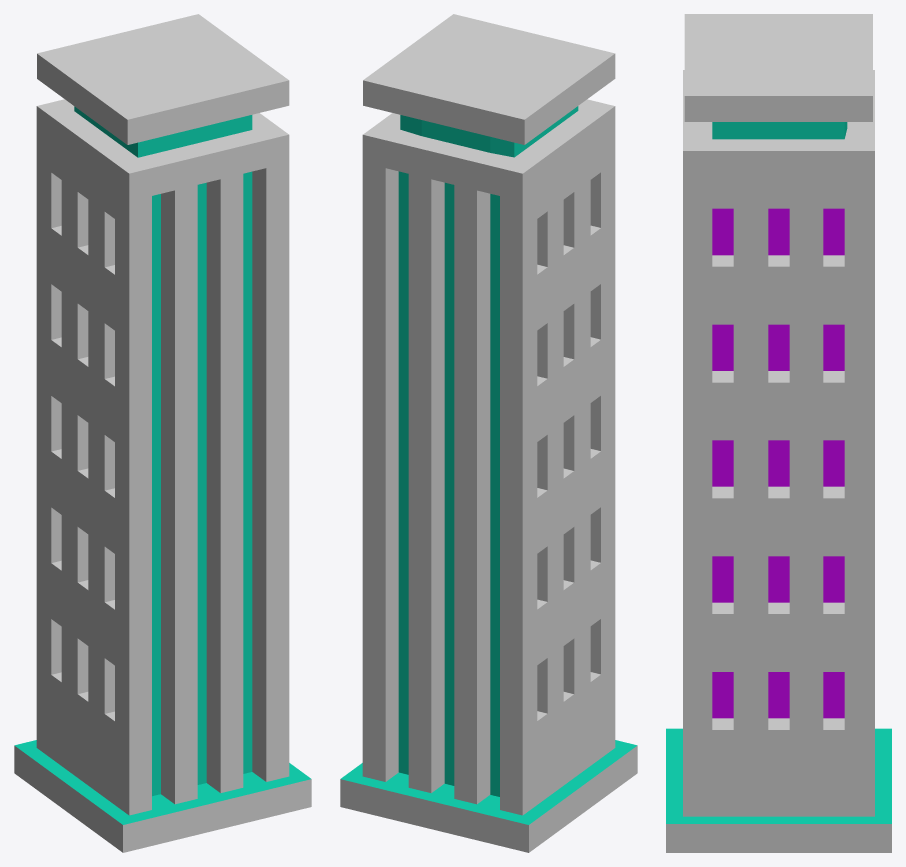
File: SM_Building_Tall_1.fbx
3 renders of one model, left to right at view 1: azimuth 30°, elevation 25°; view 2: azimuth 150°, elevation 25°; view 3: azimuth 270°, elevation 25°, orthographic. The views are drawn at different scales.
Parts seen in each view (by area): view 1: building_08.004; view 2: building_08.004; view 3: building_08.004.
Boxes of the visible parts, x1,y1,x2,y2 form: building_08.004: (14, 14, 311, 852); building_08.004: (340, 14, 637, 852); building_08.004: (666, 14, 891, 852).
Bounding box in the file's own units: 9.43 × 34.55 × 9.43.
